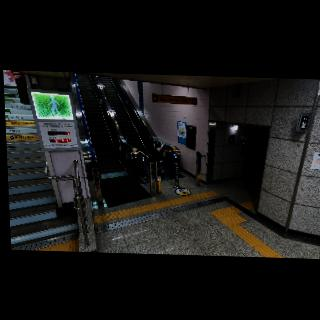anomaly: (147, 140, 166, 169)
